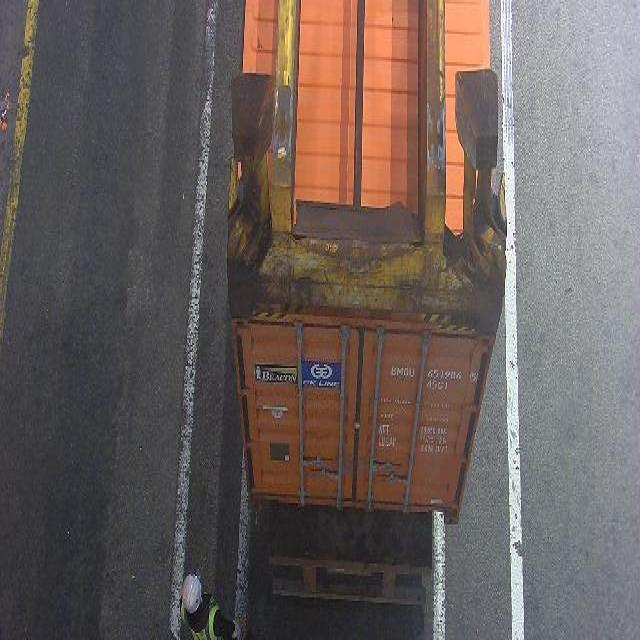ISO: (426, 376, 448, 397)
container_number: (389, 362, 484, 383)
